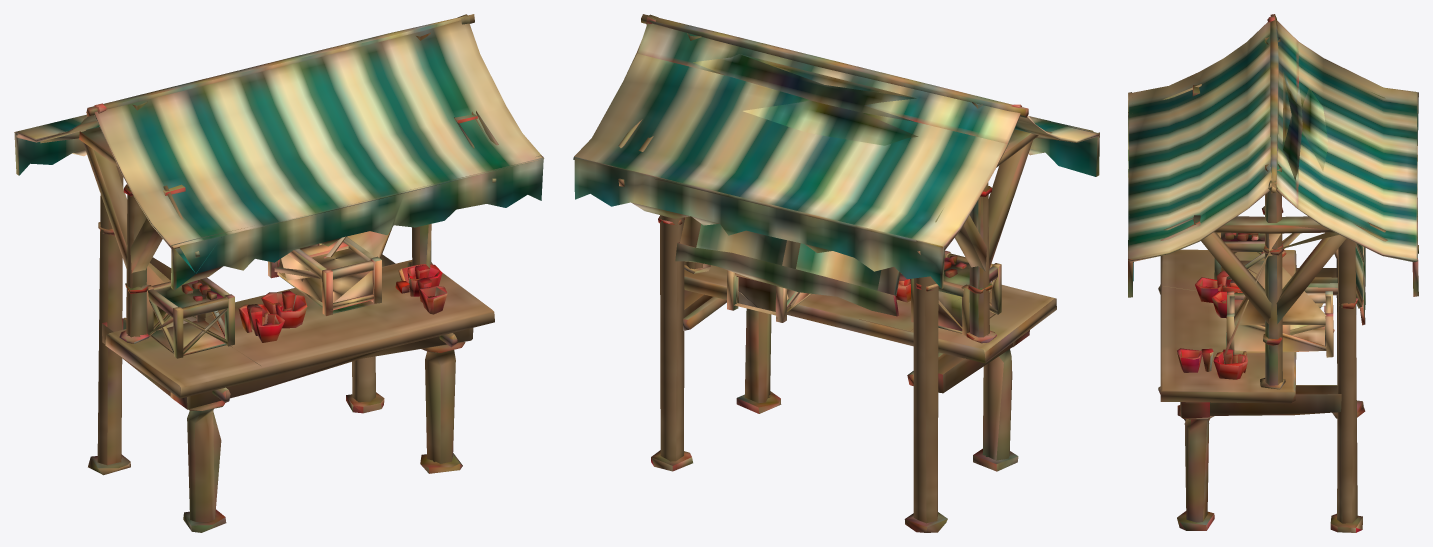
The model's file is market-stall.lod2.glb.
3 renders of one model, left to right at view 1: azimuth 30°, elevation 25°; view 2: azimuth 150°, elevation 25°; view 3: azimuth 270°, elevation 25°, orthographic. The views are drawn at different scales.
Bounding box in the file's own units: 2.6 × 2.6 × 1.85.
1 material, 1 textured.
